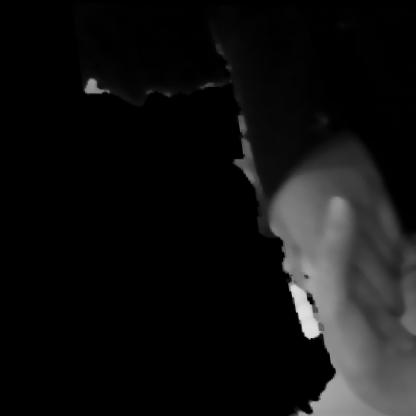handshake: (225, 107, 415, 415)
